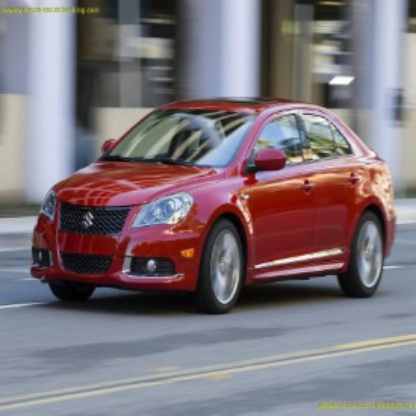Vehicle: (29, 95, 399, 307)
